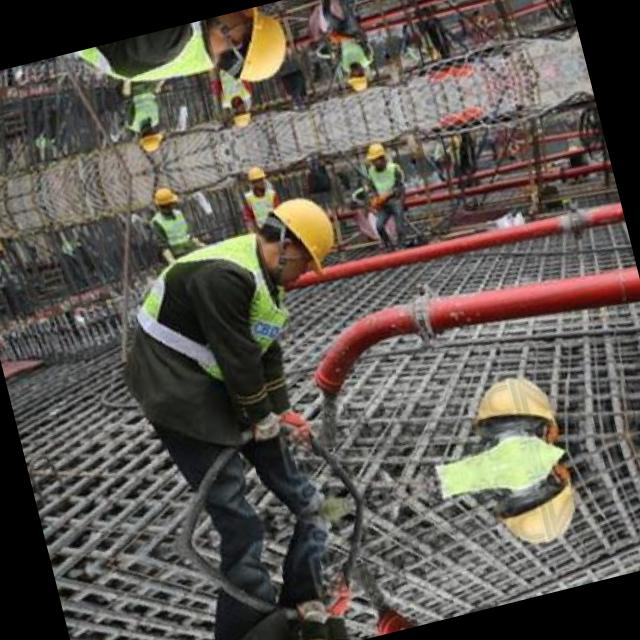helmet: (478, 457, 591, 558), (454, 362, 568, 462), (241, 185, 342, 288), (195, 1, 296, 98), (149, 185, 182, 221), (132, 116, 165, 152), (243, 160, 270, 197), (362, 135, 388, 172), (344, 61, 370, 98), (227, 95, 253, 131)
